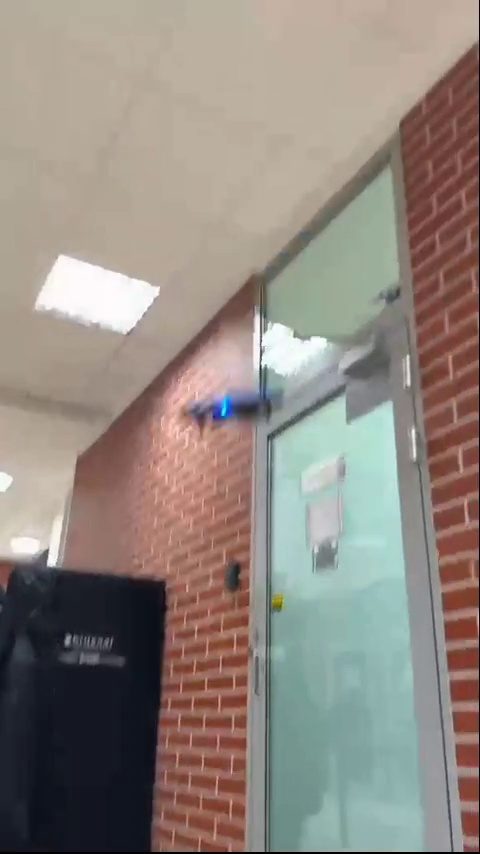drone: (180, 393, 292, 424)
